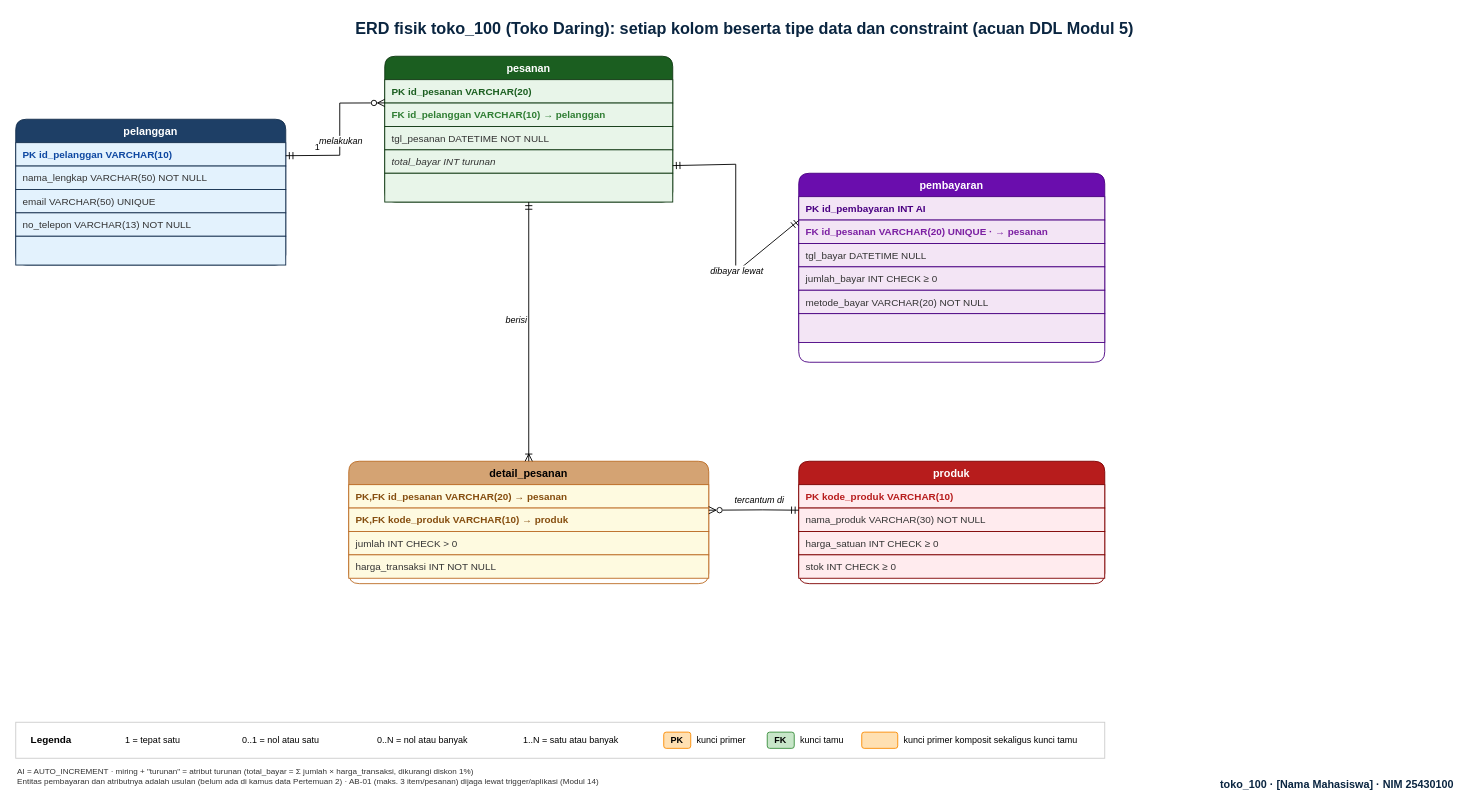
Some shapes in this 1472 by 809 pixel diagram are drawn without their labels. The centre of each missing label's shape, as x and y in pixels:
alamat TEXT NOT NULL: [150,250]
PK,FK: [879,739]
status_bayar VARCHAR(20) NOT NULL: [951,327]
status_pesanan VARCHAR(36) NOT NULL: [528,187]
